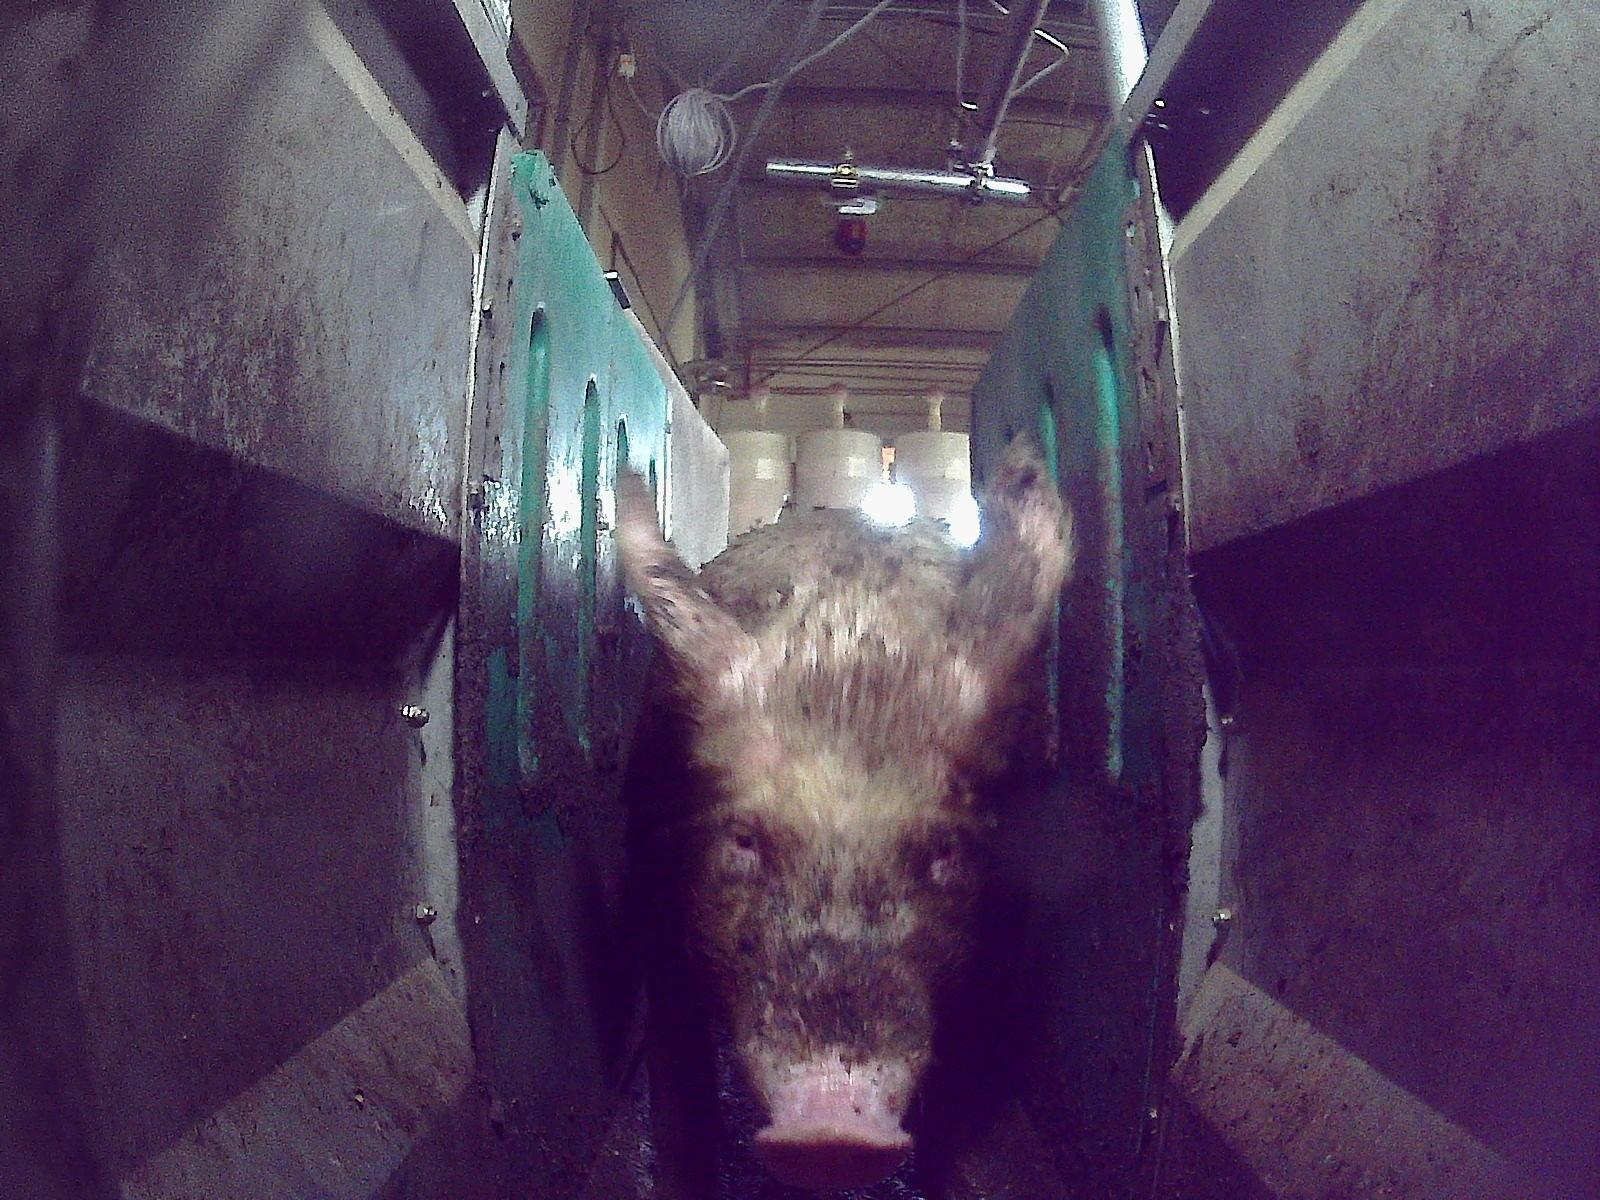Face: (681, 639, 1000, 1188)
